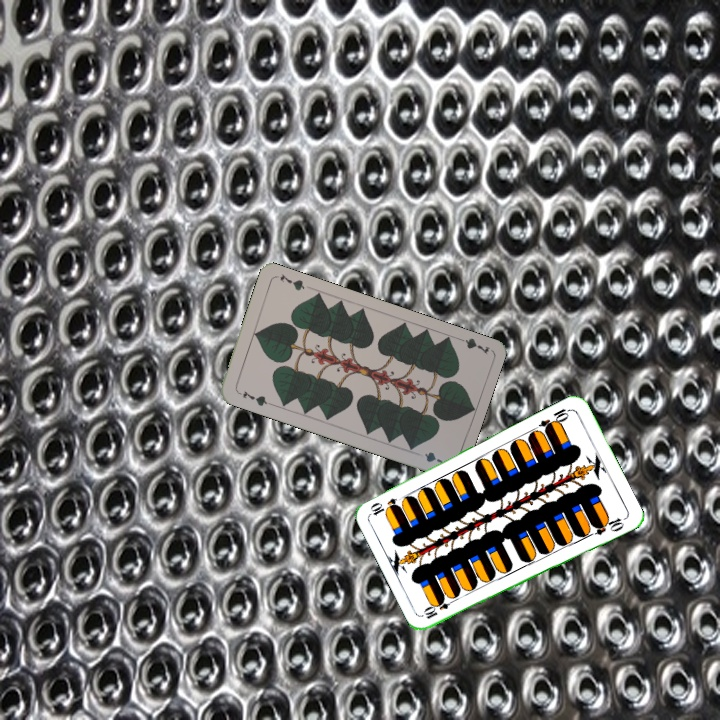E10: (536, 404, 574, 434), (420, 594, 458, 622)
G7: (452, 333, 491, 357), (234, 387, 273, 409)
